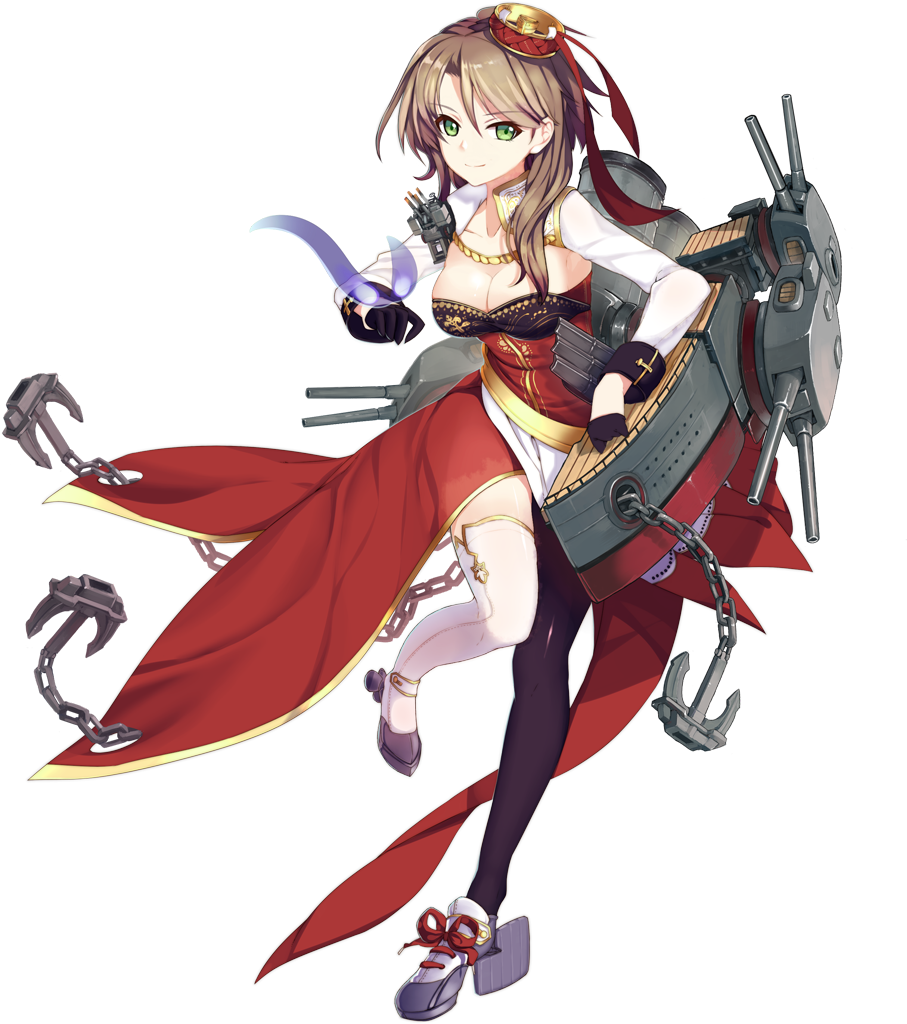person: (223, 13, 718, 771)
